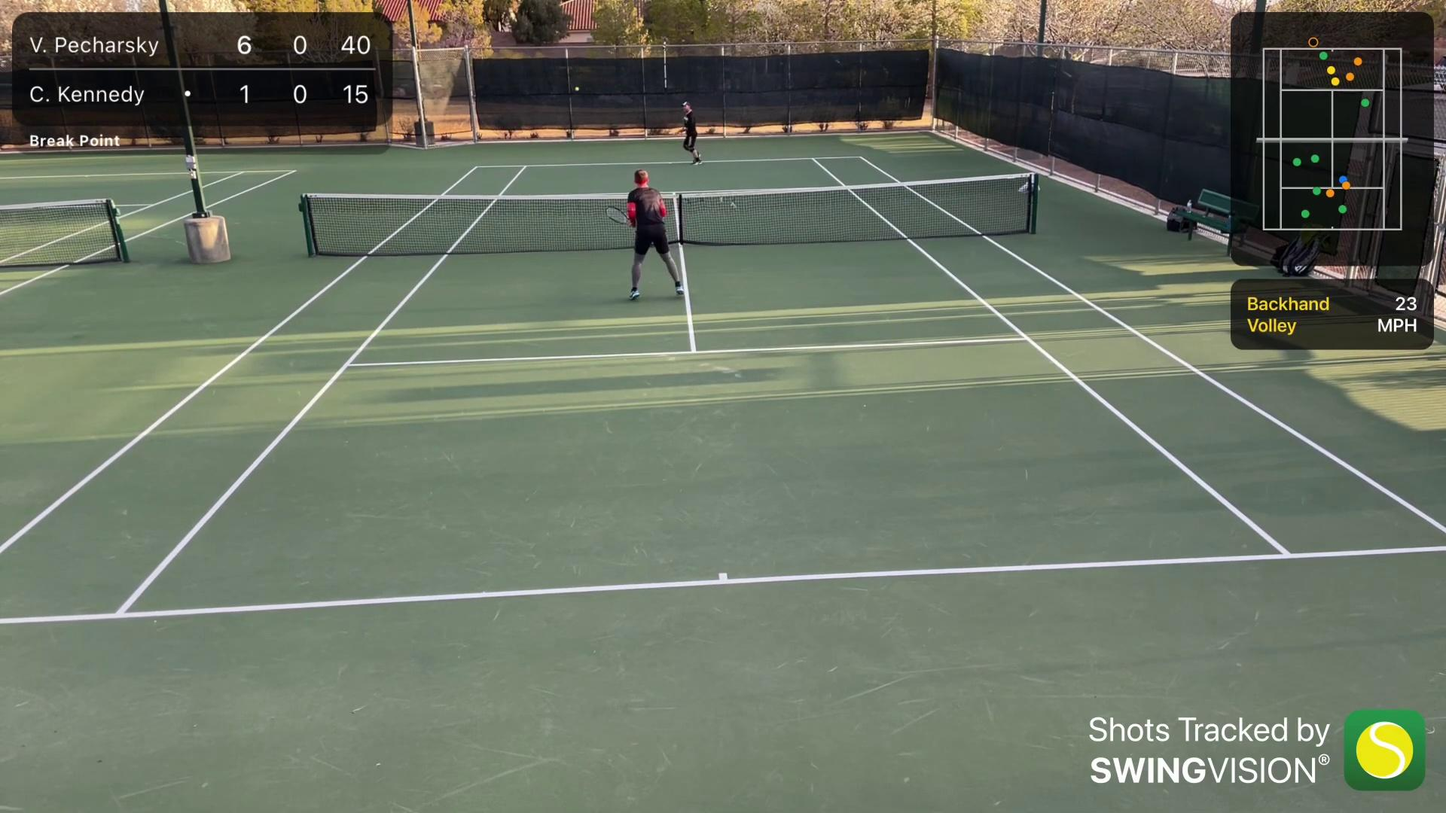ball: (574, 86, 580, 93)
